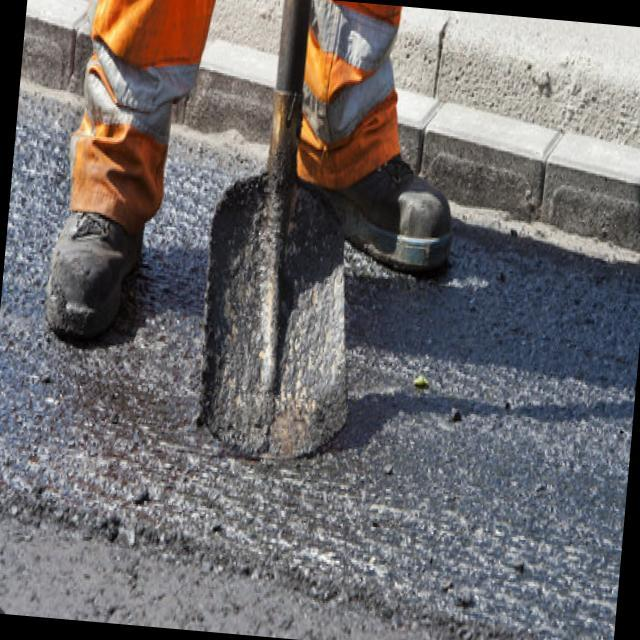boots: (36, 35, 473, 376)
